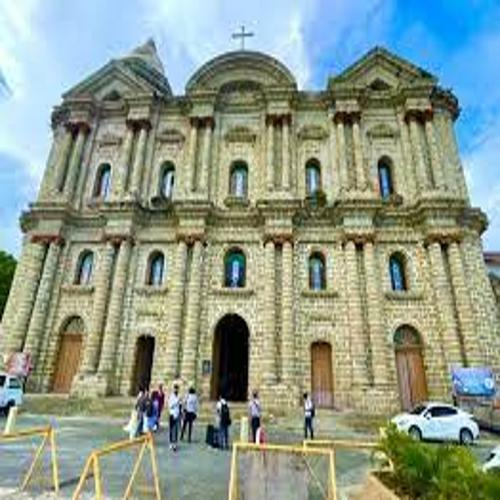Taal Basilica Church: (8, 22, 500, 425)
